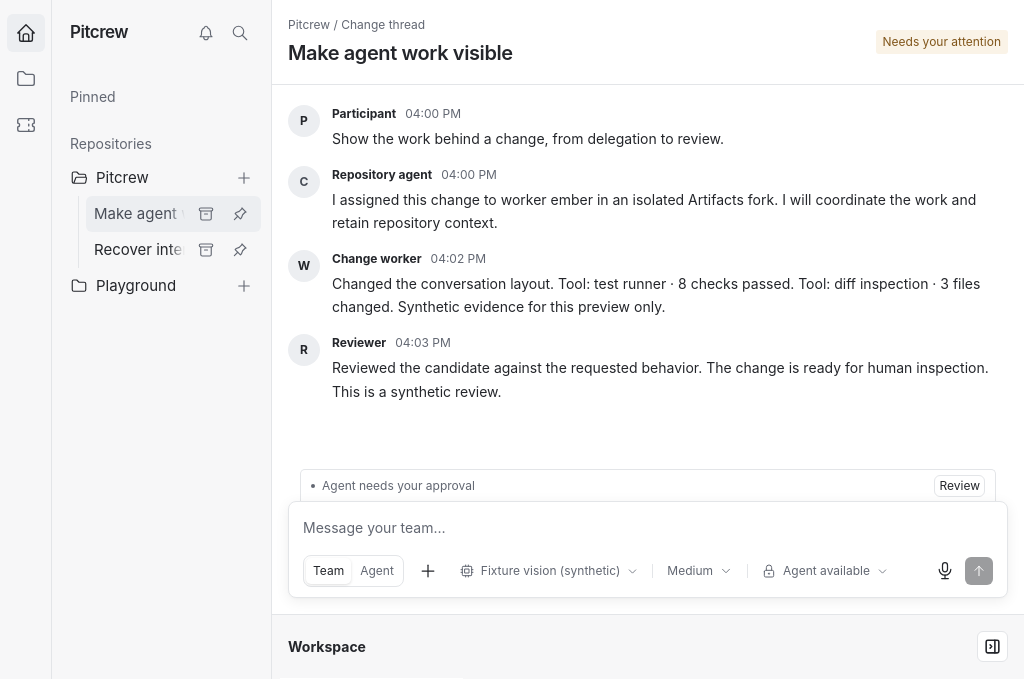
Test case: does not retain an old conversation send error after navigation
Expected: the text "Show the work behind a change, from delegation to review." is shown, [332,130,724,147]
Type "message" into the dropdown named "Message your crew" at (648, 528), box [303,516,993,540]
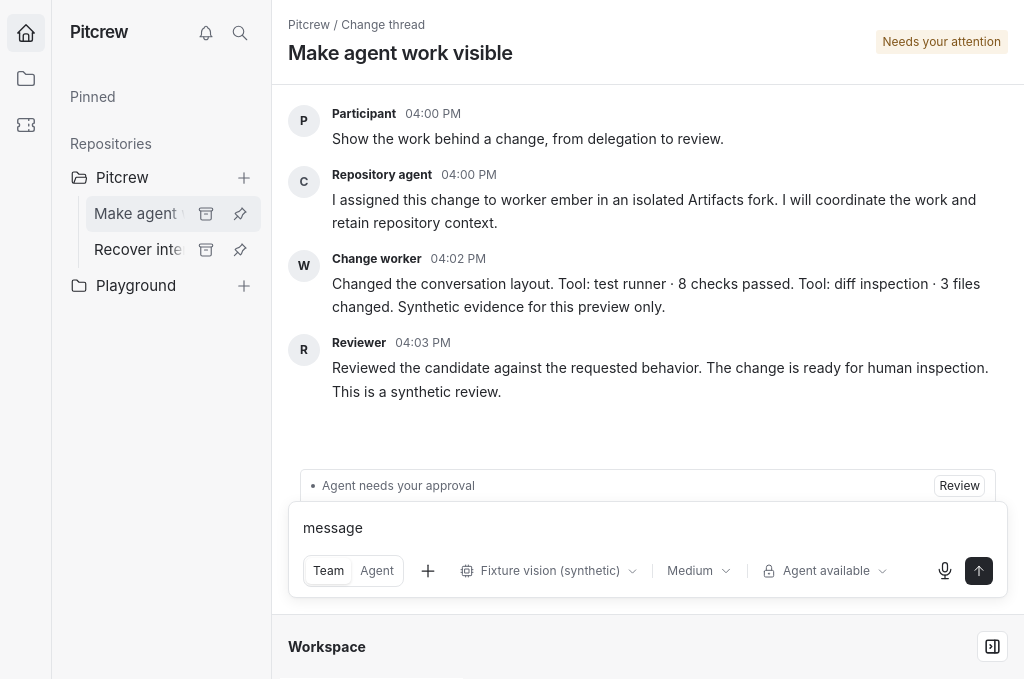
Submit the form named "Message your crew", box [288,501,1008,598]
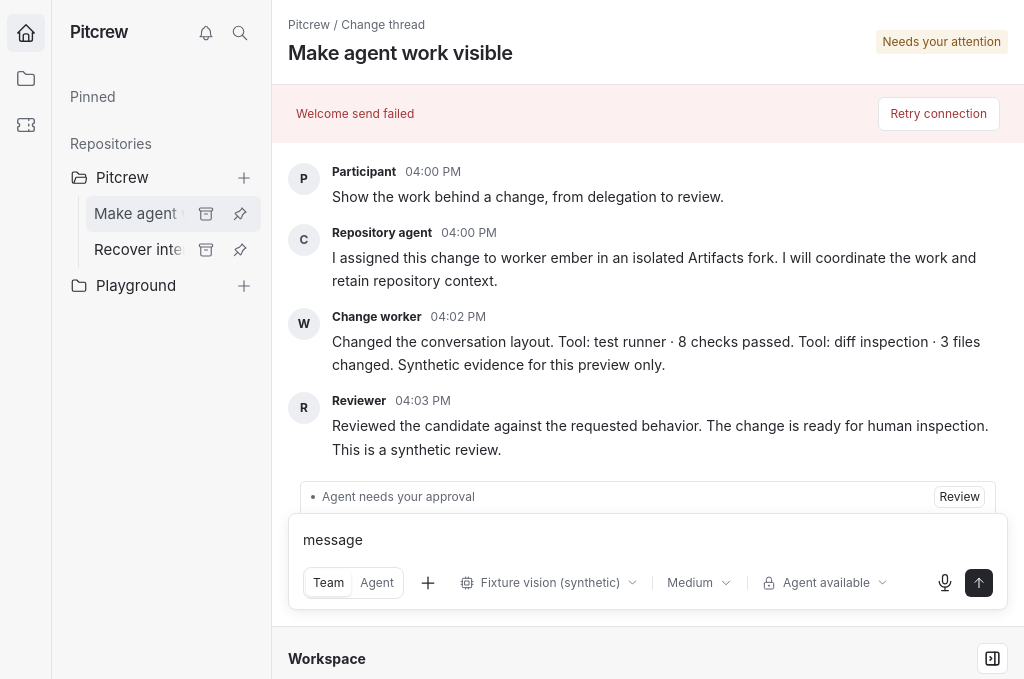
Expected: the message "Welcome send failed Retry connection" is shown, [272,85,1023,143]
Click the button "Recover interrupted work" at (174, 250), box [86,233,261,267]
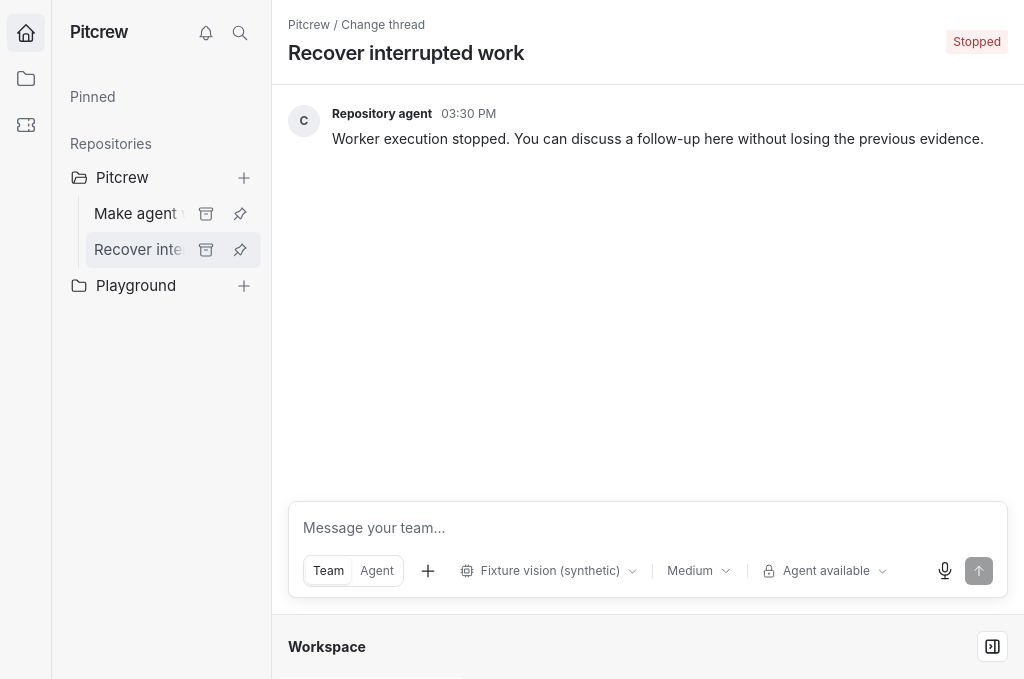
Expected: the text "Worker execution stopped" is shown, [332,130,984,147]
Expected: the message "Welcome send failed Retry connection" is gone
